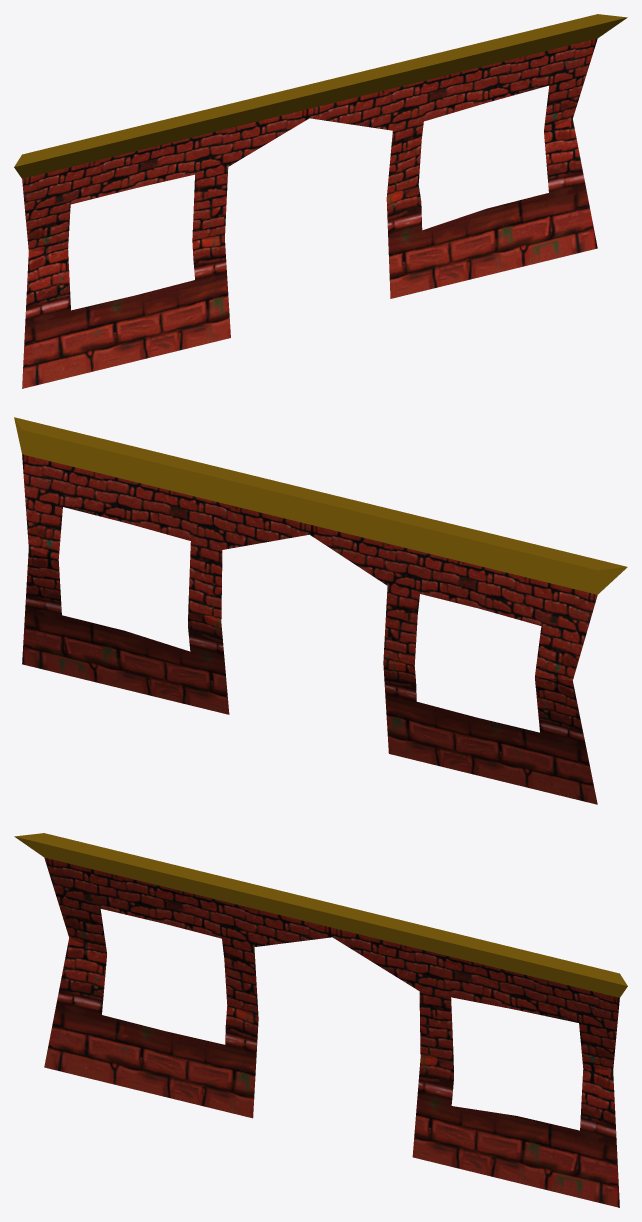
File: W_A3_fOf_Eingeschnitten_1879.glb
3 renders of one model, top to bottom at view 1: azimuth 30°, elevation 25°; view 2: azimuth 150°, elevation 25°; view 3: azimuth 330°, elevation 25°, orthographic.
Visible parts, largest first — view 1: polySurfaceShape907, polySurfaceShape1057; view 2: polySurfaceShape907, polySurfaceShape1057; view 3: polySurfaceShape907, polySurfaceShape1057.
Part boxes in pixels (<box>): polySurfaceShape907: <box>22,38,597,388</box>; polySurfaceShape1057: <box>14,14,627,178</box>; polySurfaceShape907: <box>22,454,597,804</box>; polySurfaceShape1057: <box>14,417,627,594</box>; polySurfaceShape907: <box>44,857,619,1207</box>; polySurfaceShape1057: <box>14,833,627,997</box>.
Size of the model in its own units: 1.07 by 0.3891 by 0.0607.
Materials: 2 (1 with a texture image).
